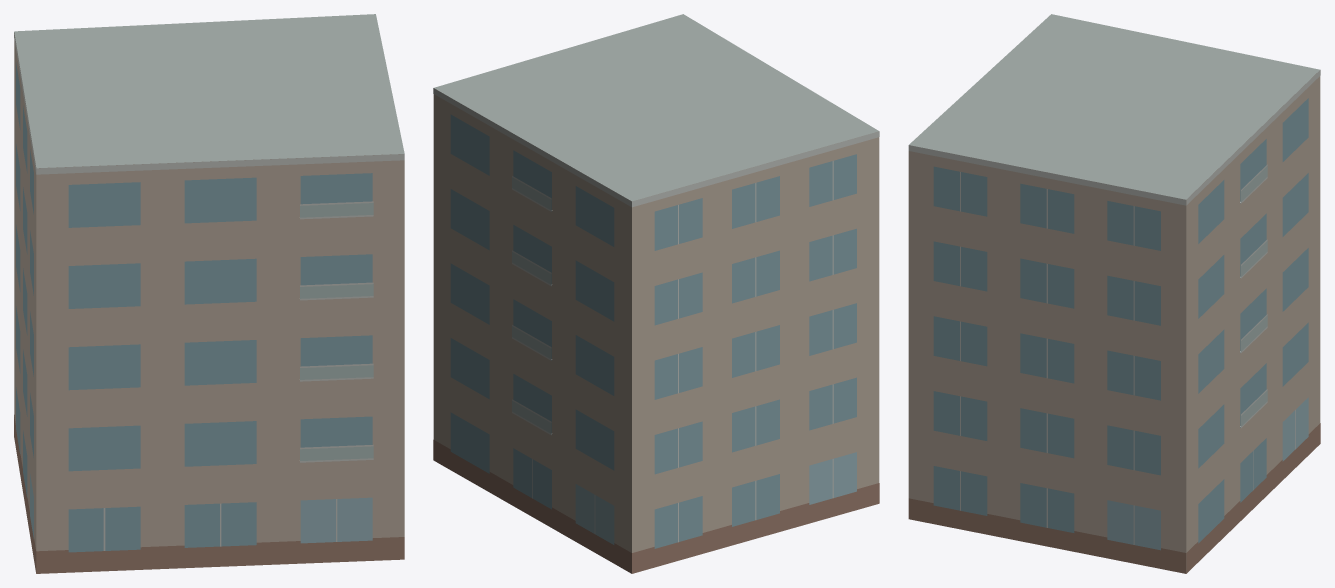
Rendered from survey-upis-32670125.glb.
3 views of the same model, side by side, from view 1: azimuth 30°, elevation 25°; view 2: azimuth 150°, elevation 25°; view 3: azimuth 270°, elevation 25° (orthographic). The views are drawn at different scales.
Visible parts, largest first — view 1: survey-upis-32670125.tmp; view 2: survey-upis-32670125.tmp; view 3: survey-upis-32670125.tmp.
Part boxes in pixels (x1,y1,x2,y2): survey-upis-32670125.tmp: (14,14,404,573); survey-upis-32670125.tmp: (433,14,879,573); survey-upis-32670125.tmp: (908,14,1320,573).
Bounding box in the file's own units: 16.41 × 15.4 × 15.37.
